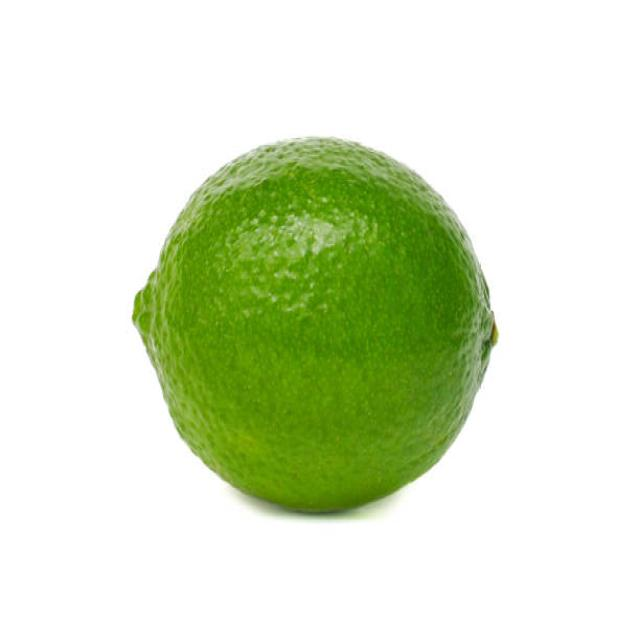Unripe: (131, 134, 500, 516)
